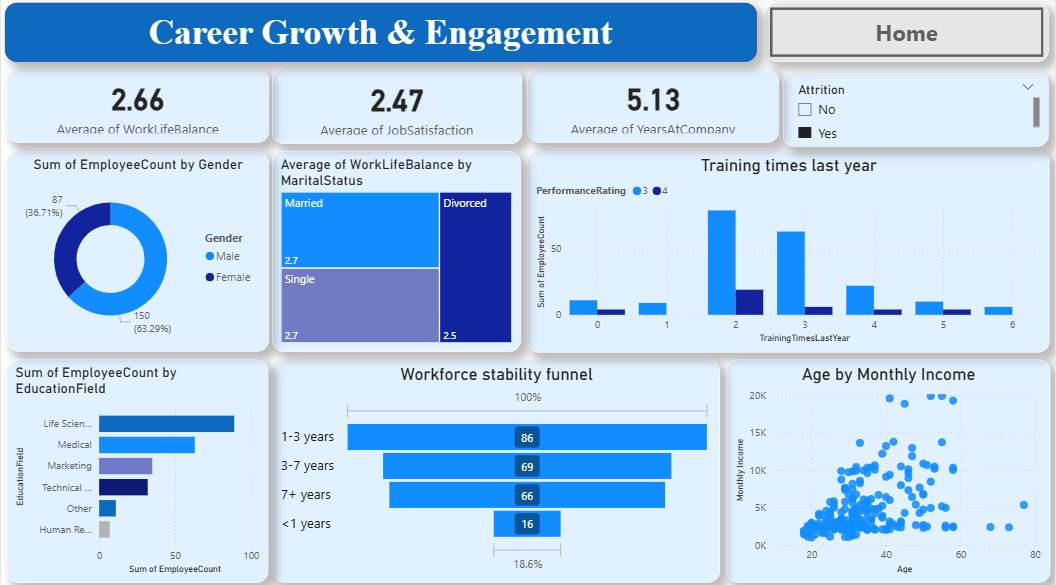

Layout of this report page (visuals, bound fields, positions):
{"tool":"powerbi","page":{"name":"Page 1","canvas":[1280,720],"ordinal":1},"visuals":[{"type":"funnel","title":"Workforce stability funnel","fields":{"Category":["IBM_HR_Final_PowerBI.employee_status"],"Y":["Sum(IBM_HR_Final_PowerBI.EmployeeCount)"]},"box":[329.8,442.1,544.3,270.7],"z":0},{"type":"clusteredColumnChart","title":"Training times last year","fields":{"Category":["IBM_HR_Final_PowerBI.TrainingTimesLastYear"],"Y":["Sum(IBM_HR_Final_PowerBI.EmployeeCount)"],"Series":["IBM_HR_Final_PowerBI.PerformanceRating"]},"box":[639.4,190.1,633.6,244.8],"z":1000},{"type":"donutChart","fields":{"Category":["IBM_HR_Final_PowerBI.Gender"],"Y":["Sum(IBM_HR_Final_PowerBI.EmployeeCount)"]},"box":[7.2,190.1,318.2,243.4],"z":2000},{"type":"barChart","fields":{"Category":["IBM_HR_Final_PowerBI.EducationField"],"Y":["Sum(IBM_HR_Final_PowerBI.EmployeeCount)"]},"box":[6.6,441.9,317.7,271.5],"z":3000},{"type":"scatterChart","fields":{"X":["Sum(IBM_HR_Final_PowerBI.Age)"],"Y":["IBM_HR_Final_PowerBI.MonthlyIncome"]},"box":[879.8,443.5,393.1,270.7],"z":4000},{"type":"card","fields":{"Values":["Avg(IBM_HR_Final_PowerBI.WorkLifeBalance)"]},"box":[7.2,90.7,318.2,89.3],"z":5000},{"type":"card","fields":{"Values":["Avg(IBM_HR_Final_PowerBI.JobSatisfaction)"]},"box":[328.3,90.7,303.8,90.7],"z":6000},{"type":"card","fields":{"Values":["Avg(IBM_HR_Final_PowerBI.YearsAtCompany)"]},"box":[639.4,90.7,305.3,89.3],"z":7000},{"type":"slicer","fields":{"Values":["IBM_HR_Final_PowerBI.Attrition"]},"box":[950.4,93.6,322.6,89.3],"z":8000},{"type":"treemap","fields":{"Group":["IBM_HR_Final_PowerBI.MaritalStatus"],"Values":["Avg(IBM_HR_Final_PowerBI.WorkLifeBalance)"]},"box":[329.8,190.2,302.3,244],"z":9000},{"type":"actionButton","box":[928.8,8.6,344.2,72],"z":10000},{"type":"textbox","box":[5.9,8.8,913.2,71.7],"z":11000}]}

Visuals, with their boxes in screenshot pixels (x1, y1, x2, y2), scaled from the page's 1280x720 canvas onto the 1056x585 screenshot:
"Workforce stability funnel" funnel: left=272, top=359, right=721, bottom=579
"Training times last year" clusteredColumnChart: left=528, top=154, right=1050, bottom=353
donutChart - IBM_HR_Final_PowerBI.Gender x Sum(IBM_HR_Final_PowerBI.EmployeeCount): left=6, top=154, right=268, bottom=352
barChart - IBM_HR_Final_PowerBI.EducationField x Sum(IBM_HR_Final_PowerBI.EmployeeCount): left=5, top=359, right=268, bottom=580
scatterChart - Sum(IBM_HR_Final_PowerBI.Age) x IBM_HR_Final_PowerBI.MonthlyIncome: left=726, top=360, right=1050, bottom=580
card - Avg(IBM_HR_Final_PowerBI.WorkLifeBalance): left=6, top=74, right=268, bottom=146
card - Avg(IBM_HR_Final_PowerBI.JobSatisfaction): left=271, top=74, right=521, bottom=147
card - Avg(IBM_HR_Final_PowerBI.YearsAtCompany): left=528, top=74, right=779, bottom=146
slicer - IBM_HR_Final_PowerBI.Attrition: left=784, top=76, right=1050, bottom=149
treemap - IBM_HR_Final_PowerBI.MaritalStatus x Avg(IBM_HR_Final_PowerBI.WorkLifeBalance): left=272, top=155, right=521, bottom=353
actionButton: left=766, top=7, right=1050, bottom=65
textbox: left=5, top=7, right=758, bottom=65
